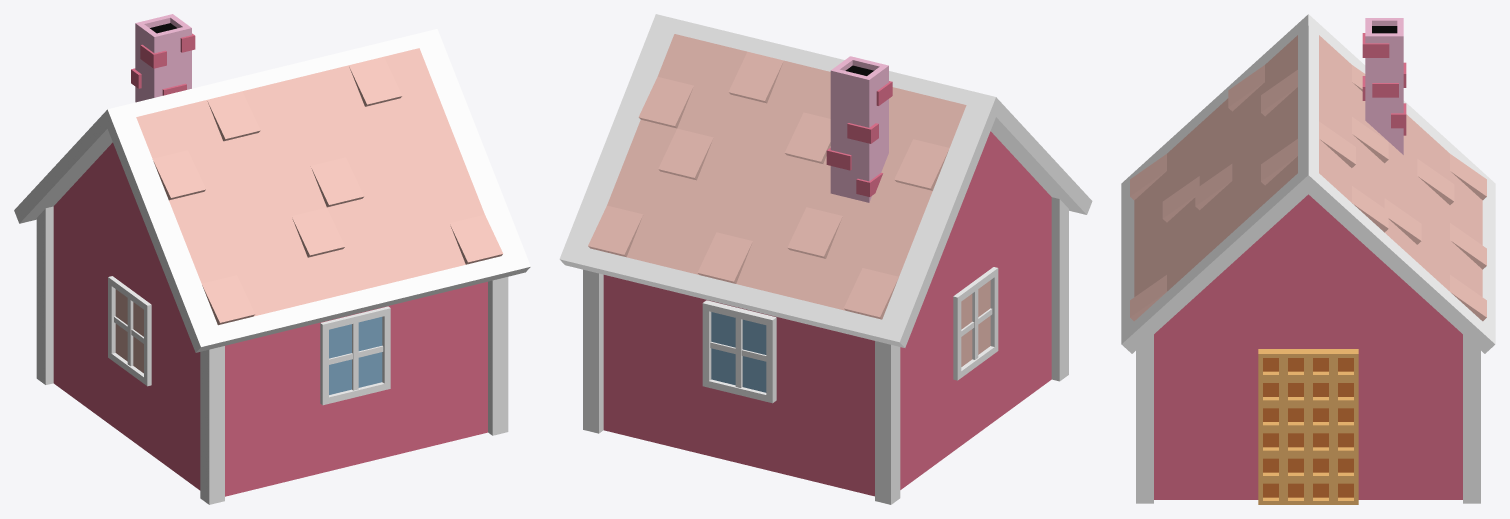
The model's file is CandyHouse_01.fbx.
3 renders of one model, left to right at view 1: azimuth 30°, elevation 25°; view 2: azimuth 150°, elevation 25°; view 3: azimuth 270°, elevation 25°, orthographic. The views are drawn at different scales.
Parts seen in each view (by area): view 1: CandyHouse_01; view 2: CandyHouse_01; view 3: CandyHouse_01.
Part boxes in pixels (x1,y1,x2,y2): CandyHouse_01: (14, 14, 530, 504); CandyHouse_01: (559, 14, 1092, 504); CandyHouse_01: (1121, 14, 1495, 504).
Bounding box in the file's own units: 0.6333 × 0.6771 × 0.6216.
